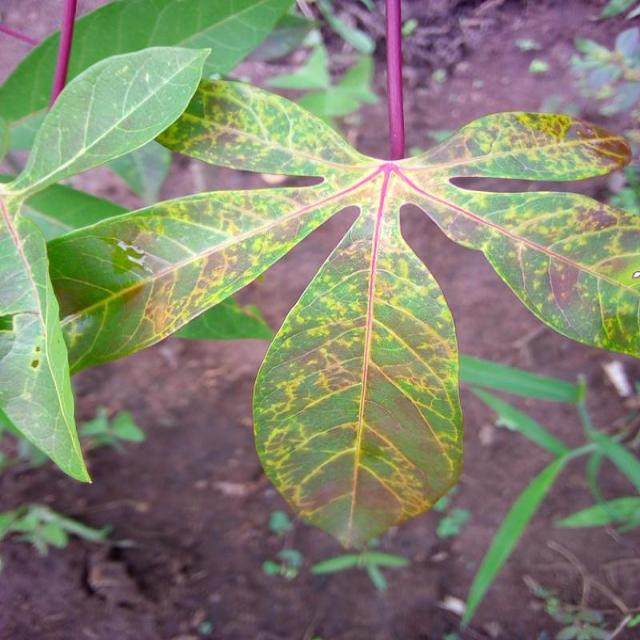cassava leaf: (1, 3, 638, 554)
